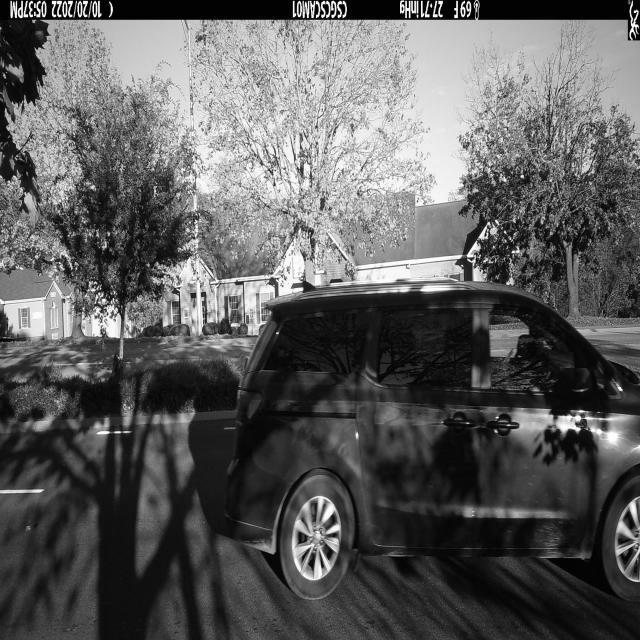Van: (224, 281, 640, 604)
